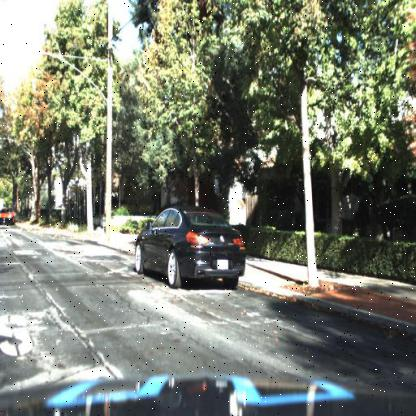car: (130, 205, 248, 290), (133, 208, 248, 286), (0, 203, 15, 229)
